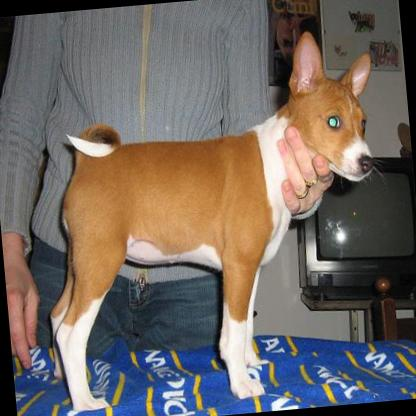basenji: (24, 30, 401, 414)
